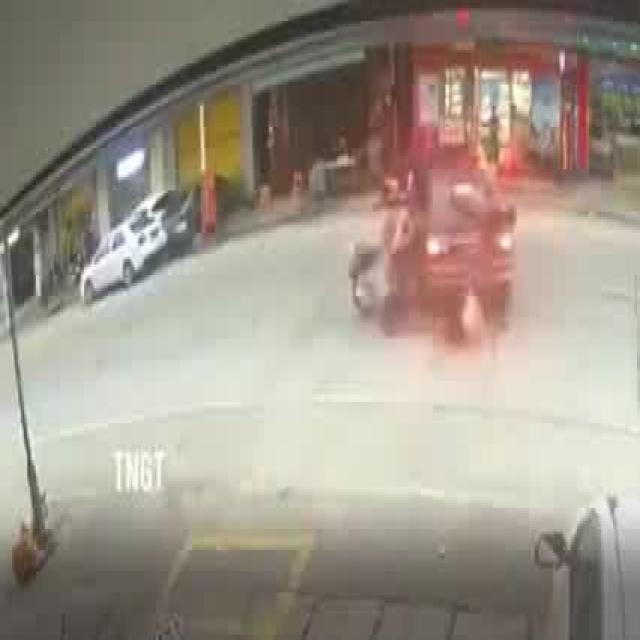multiple_accident: (333, 140, 525, 358)
